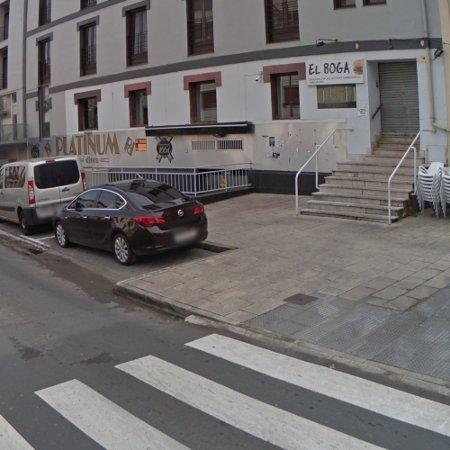crosswalks: (0, 331, 450, 450)
